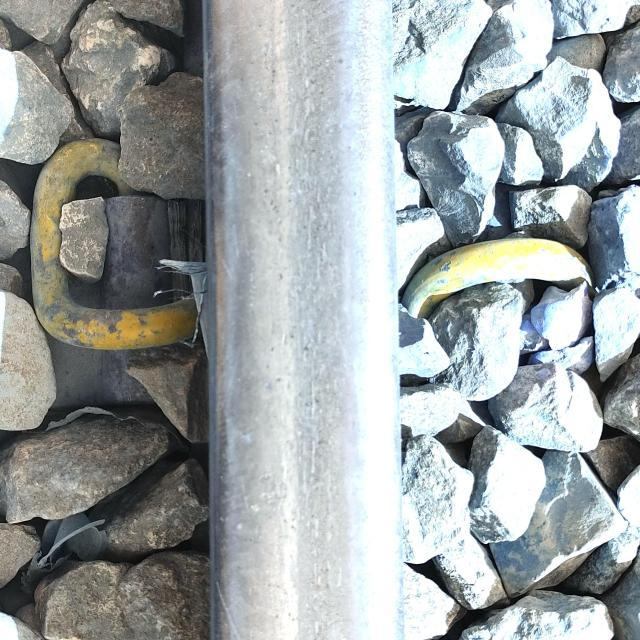Good Fasteners: (30, 139, 195, 349), (404, 186, 640, 318)
